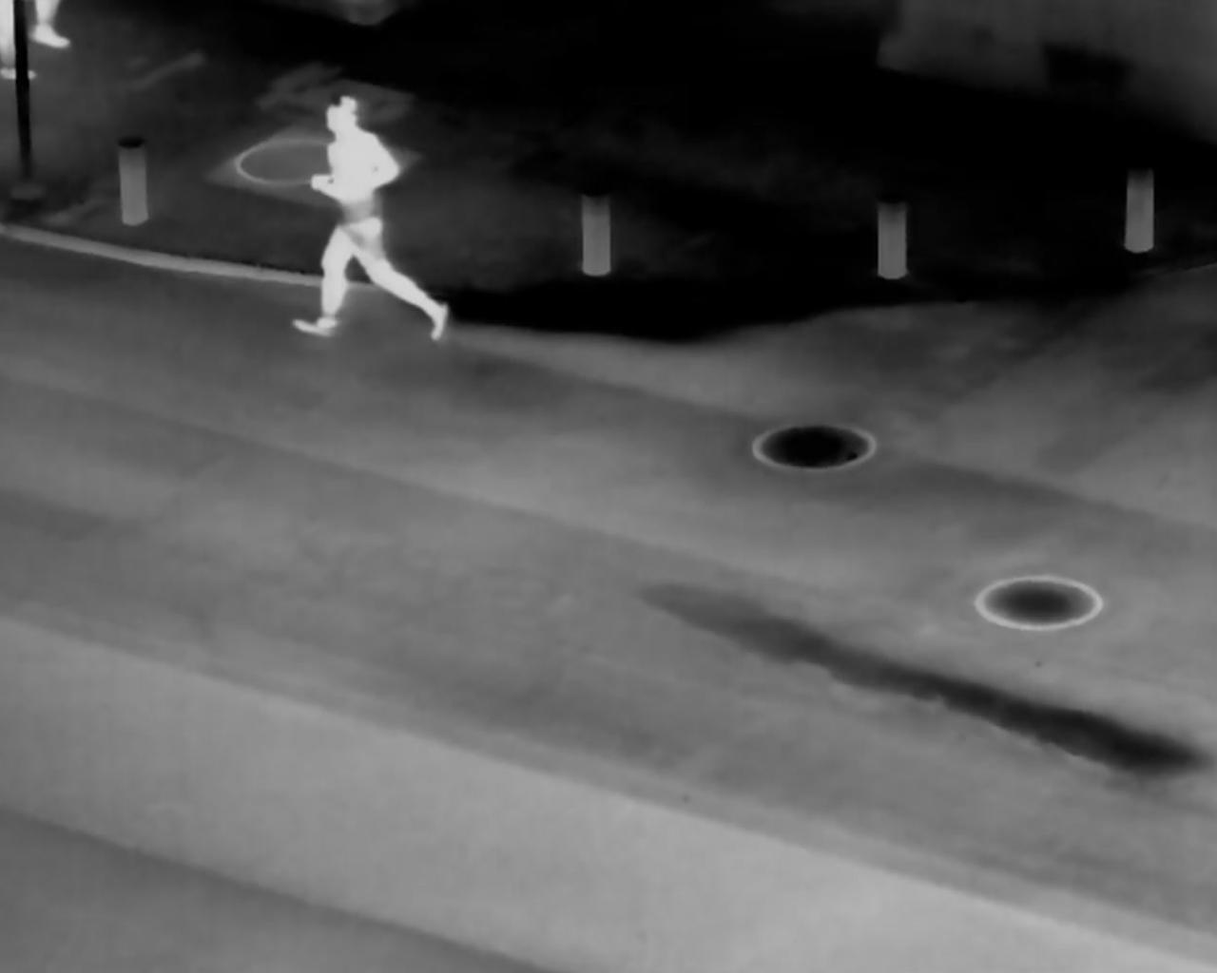person: (296, 88, 444, 355)
